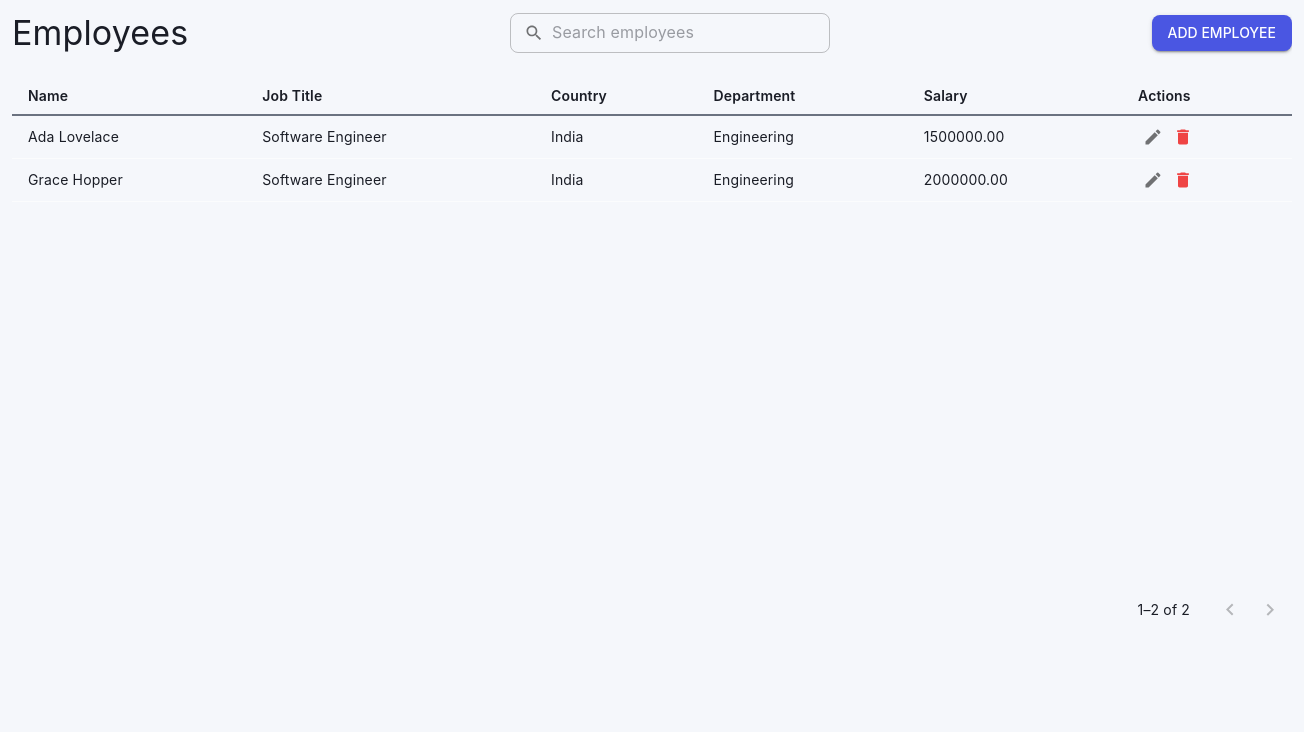
Test case: EmployeesPage › filters employees when a search query is entered
Expected: the text "Ada Lovelace" is shown, [12,115,246,158]
Expected: the text "Grace Hopper" is shown, [12,158,246,202]
Type "Grace" into the search field labelled "Search employees" at point(691, 33), box [552,13,830,53]
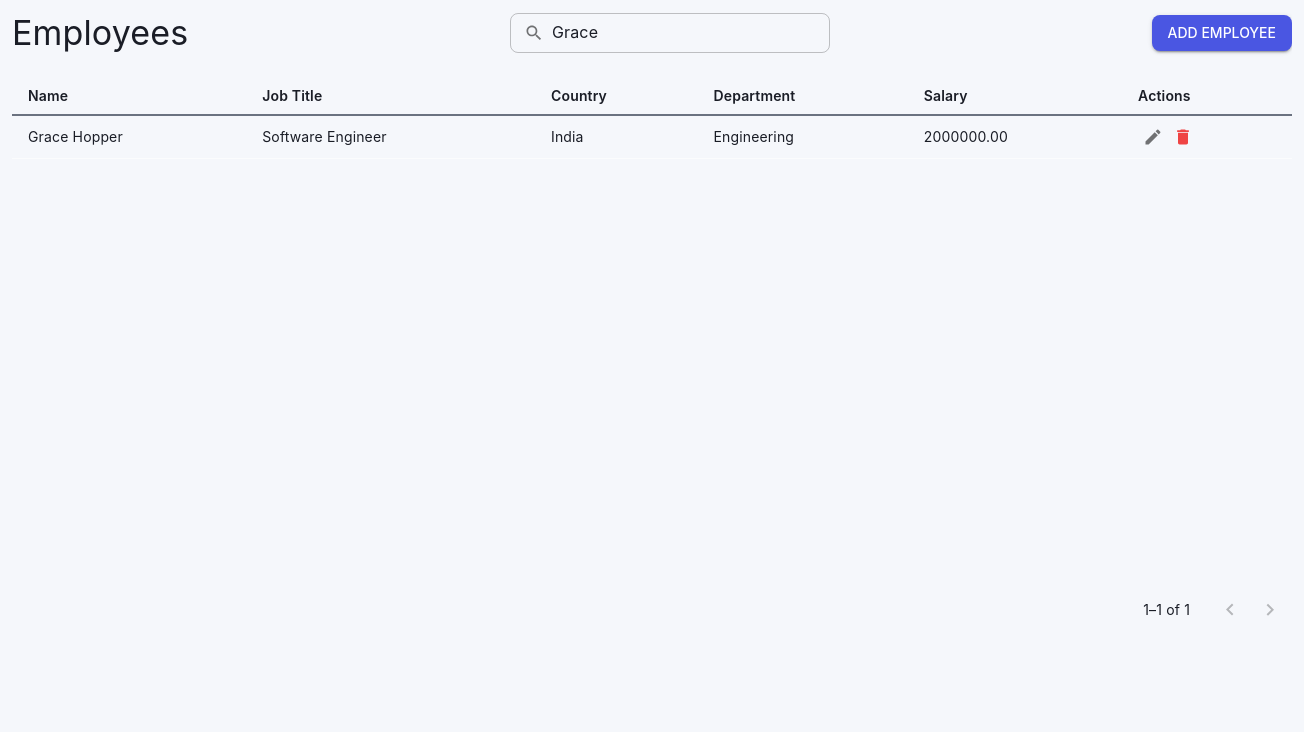
Expected: the text "Grace Hopper" is shown, [12,115,246,158]
Now the text "Ada Lovelace" is gone
